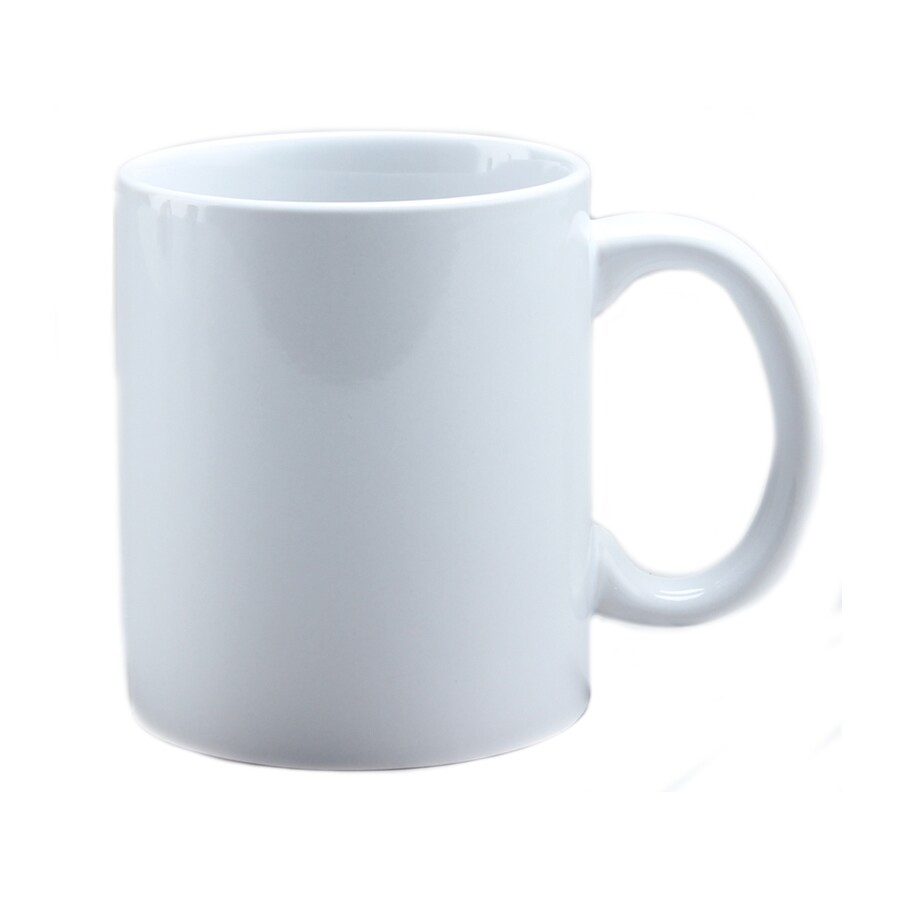gelas: (73, 120, 822, 831)
